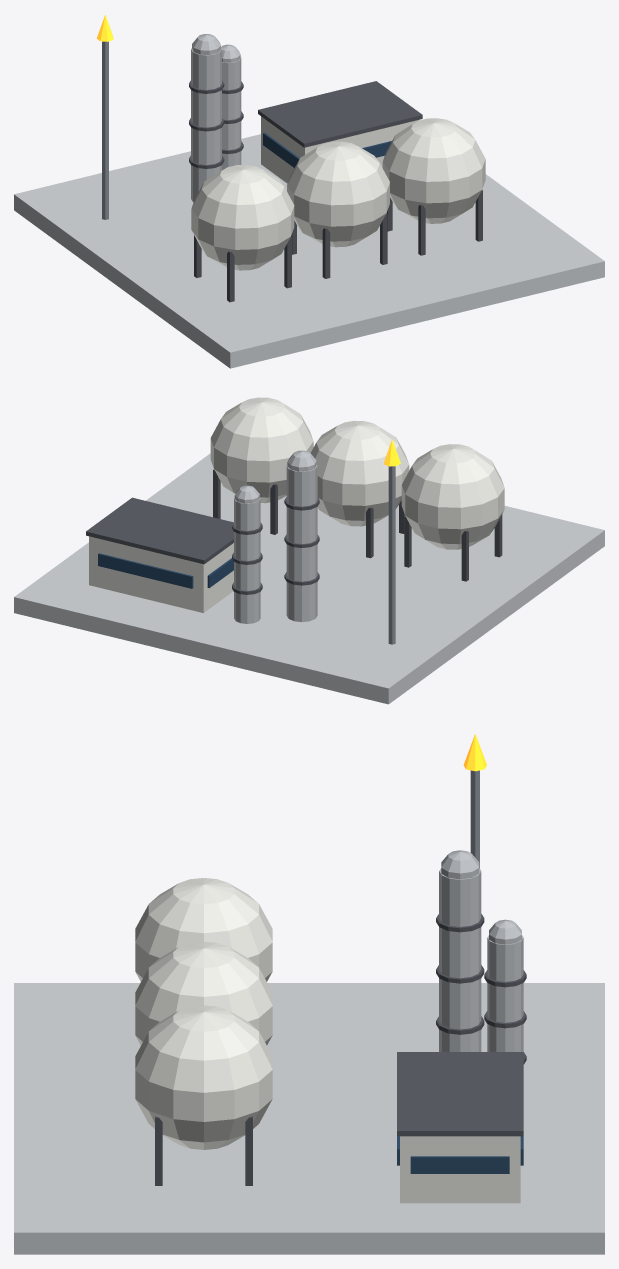
Rendered from gas_special_3.glb.
The picture shows the model from 3 angles, top to bottom: view 1: azimuth 30°, elevation 25°; view 2: azimuth 150°, elevation 25°; view 3: azimuth 270°, elevation 25°; orthographic projection. The views are drawn at different scales.
Parts seen in each view (by area): view 1: gas_special_3; view 2: gas_special_3; view 3: gas_special_3.
Part boxes in pixels (x1=…): gas_special_3: x1=14, y1=15, x2=604, y2=368; gas_special_3: x1=14, y1=397, x2=604, y2=704; gas_special_3: x1=14, y1=734, x2=604, y2=1254.
Size of the model in its own units: 1.96 by 1.1 by 1.96.
